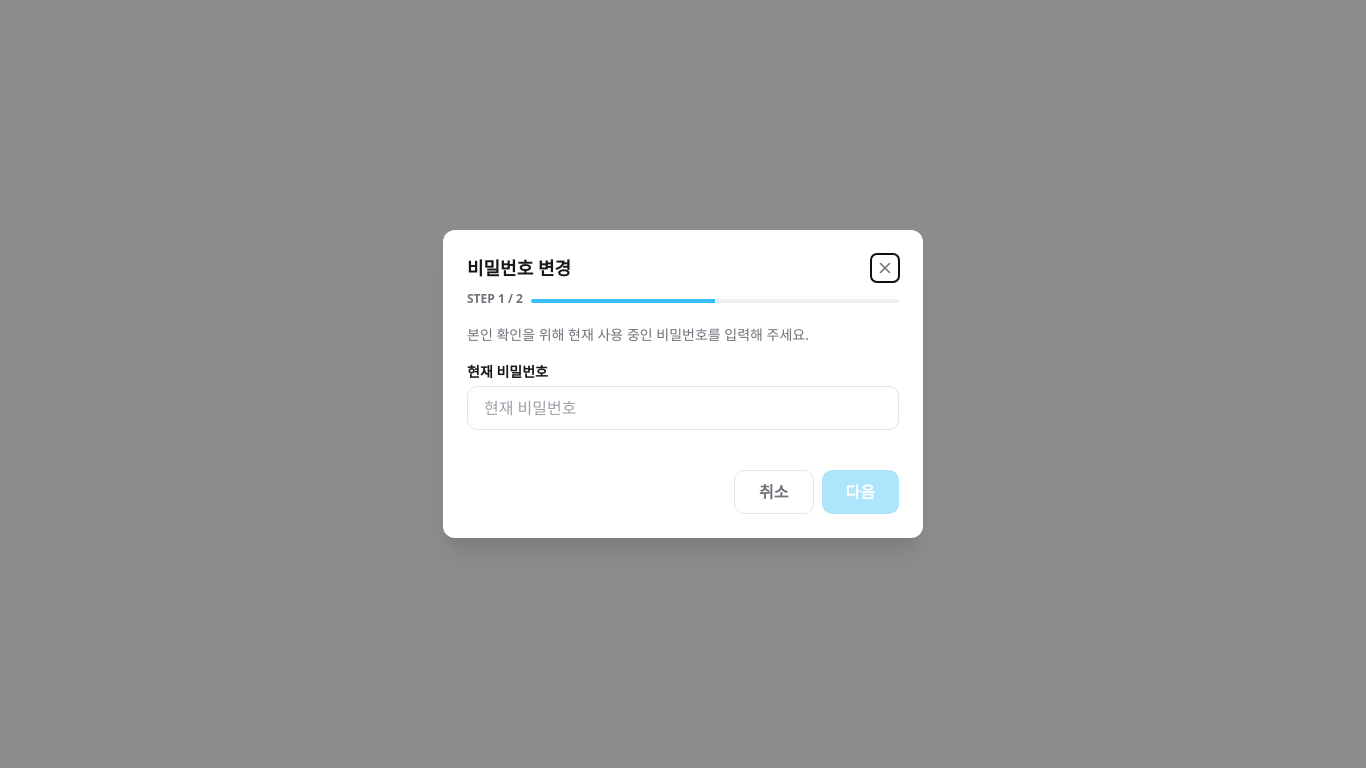
Test: PasswordChangeModal › STEP 1 — 현재 비밀번호 입력 › 현재 비번 입력 후 [다음] 버튼이 활성화된다
Type "password123" into the password field labelled "현재 비밀번호" at (683,408), box x1=467 y1=386 x2=899 y2=430
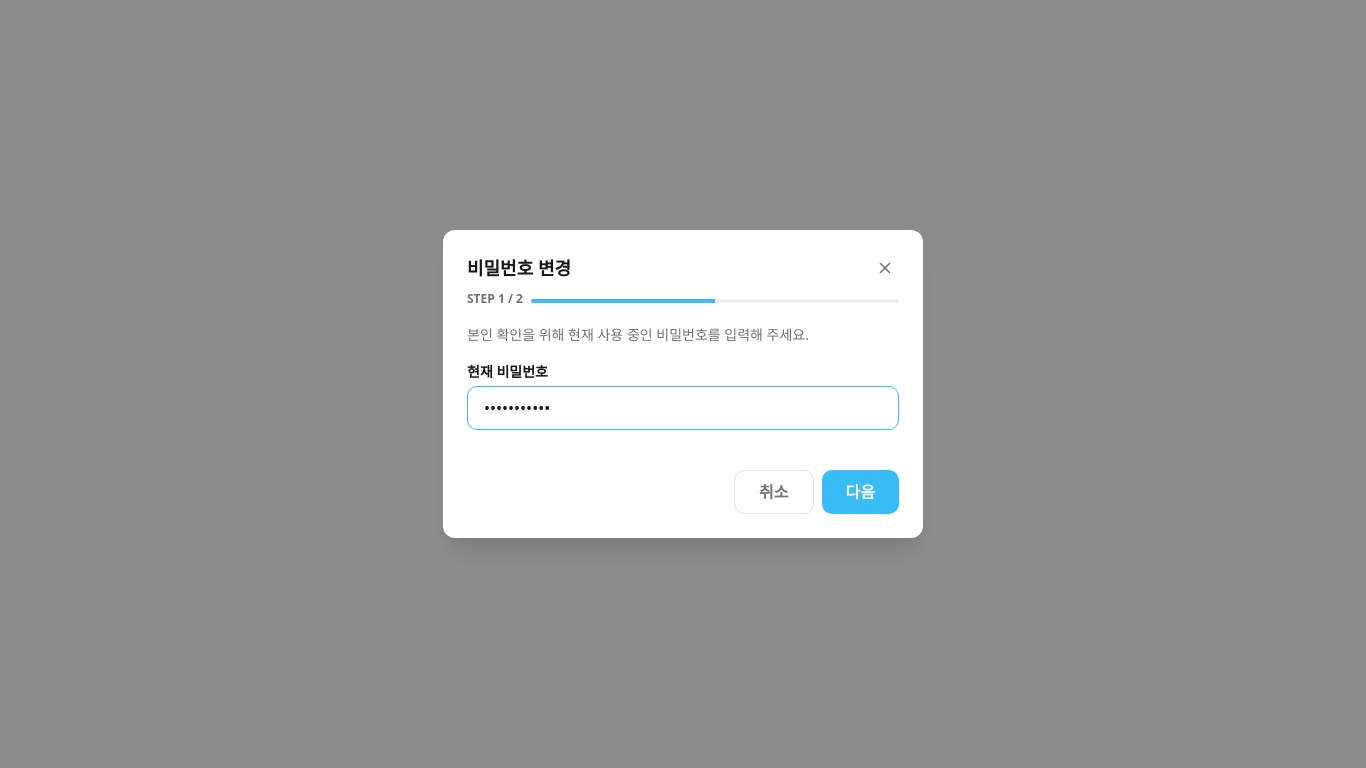
Now the button "다음" is enabled, box x1=822 y1=470 x2=899 y2=514
